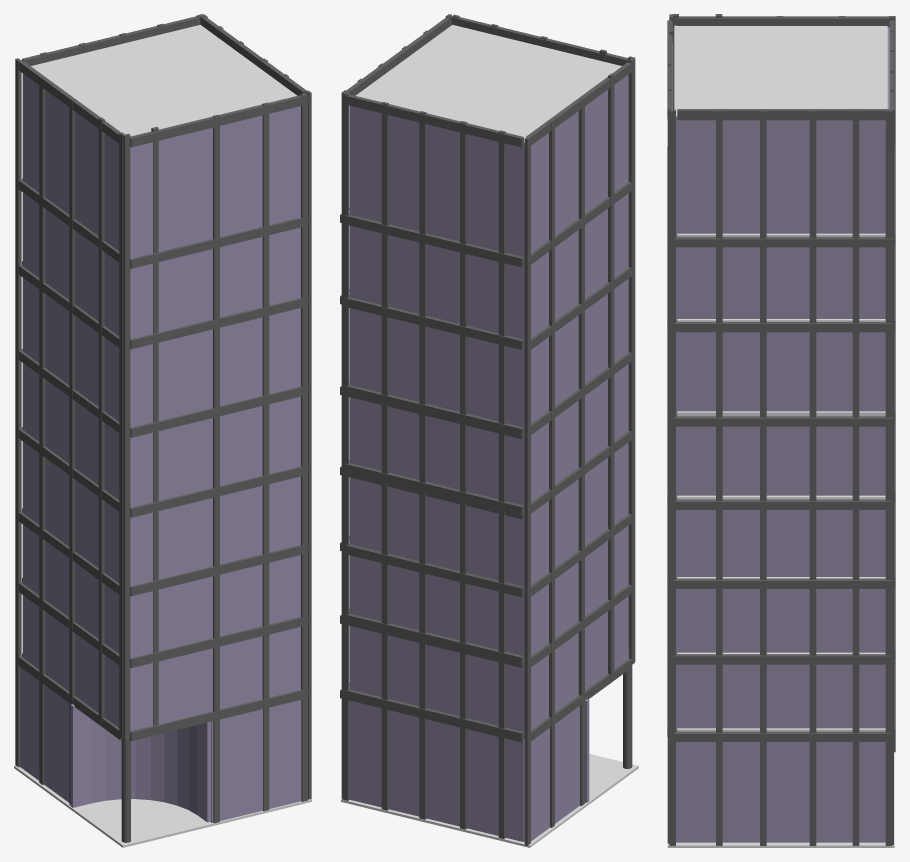
The model's file is build_b.fbx.
3 renders of one model, left to right at view 1: azimuth 30°, elevation 25°; view 2: azimuth 150°, elevation 25°; view 3: azimuth 270°, elevation 25°, orthographic. The views are drawn at different scales.
Parts seen in each view (by area): view 1: 立方体.054, 立方体.057, 立方体.062, 円, 立方体.060, 立方体.006, 立方体.021, 立方体.061, 立方体.017, 立方体.004, 立方体, 立方体.005 (+25 smaller); view 2: 立方体.055, 立方体.057, 立方体.062, 立方体.058, 立方体.012, 立方体.013, 立方体.014, 立方体.016, 立方体.015, 立方体.017, 立方体.018, 立方体.061 (+26 smaller); view 3: 立方体.056, 立方体.059, 立方体.062, 立方体.010, 立方体.011, 立方体.002, 立方体.003, 立方体.008, 立方体.009, 平面.005, 平面.001, 平面.004 (+18 smaller).
Part boxes in pixels (x1,y1,x2,y2): 立方体.054: (130,106,300,731); 立方体.057: (22,73,119,727); 立方体.062: (31,25,296,136); 円: (70,704,211,822); 立方体.060: (211,700,301,822); 立方体.006: (262,102,269,811); 立方体.021: (123,133,130,739); 立方体.061: (20,667,69,802); 立方体.017: (15,58,21,767); 立方体.004: (39,76,45,784); 立方体: (14,765,311,847); 立方体.005: (212,114,219,823); 立方体.055: (350,105,524,737); 立方体.057: (531,74,628,729); 立方体.062: (355,24,621,143); 立方体.058: (349,700,524,841); 立方体.012: (342,92,349,800); 立方体.013: (381,102,388,810); 立方体.014: (419,111,426,819); 立方体.016: (498,130,505,838); 立方体.015: (460,121,467,829); 立方体.017: (524,136,530,845); 立方体.018: (578,97,584,805); 立方体.061: (531,706,579,841); 立方体.056: (676,117,885,730); 立方体.059: (676,742,885,842); 立方体.062: (674,25,887,116); 立方体.010: (809,109,816,845); 立方体.011: (852,109,859,845); 立方体.002: (885,109,892,845); 立方体.003: (669,109,675,845); 立方体.008: (716,109,722,845); 立方体.009: (760,109,766,845); 平面.005: (673,320,892,332); 平面.001: (673,652,892,664); 平面.004: (673,415,892,426).
Bounding box in the file's own units: 988 × 3516 × 982.
